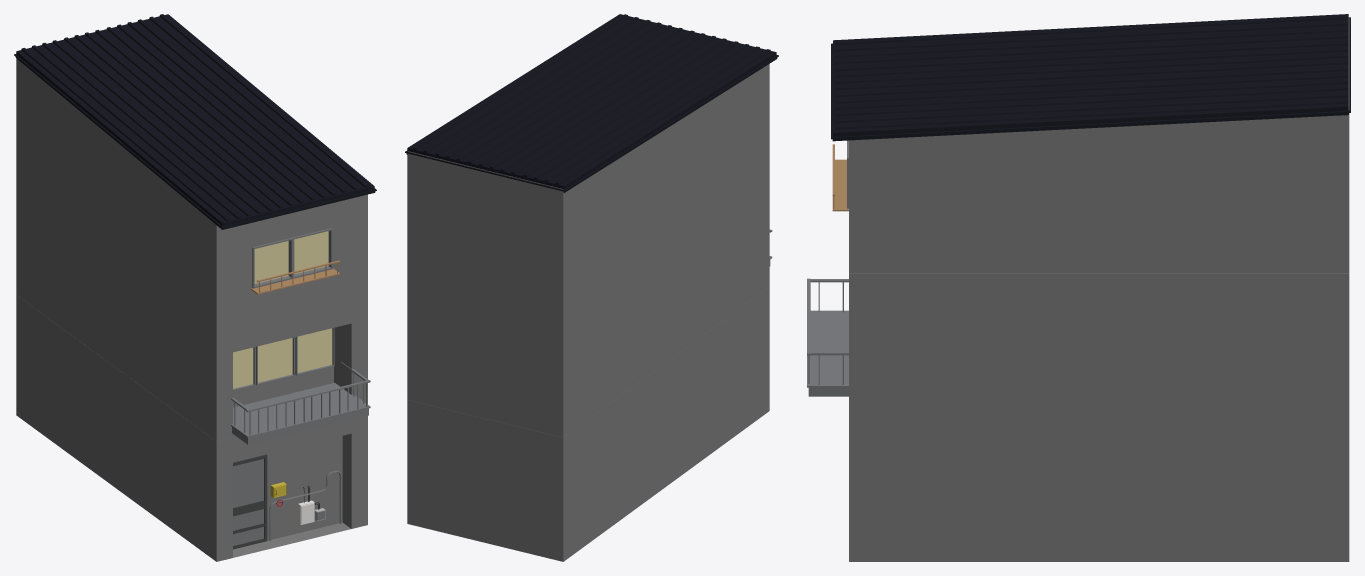
Rendered from SM_building_alley_japan_01.fbx.
The picture shows the model from 3 angles, left to right: view 1: azimuth 30°, elevation 25°; view 2: azimuth 150°, elevation 25°; view 3: azimuth 270°, elevation 25°; orthographic projection. The views are drawn at different scales.
Parts seen in each view (by area): view 1: Object031; view 2: Object031; view 3: Object031.
Boxes of the visible parts, bbox=[...] form: Object031: bbox=[14, 14, 376, 561]; Object031: bbox=[405, 14, 778, 561]; Object031: bbox=[807, 14, 1350, 561].
Bounding box in the file's own units: 192 × 467 × 435.
